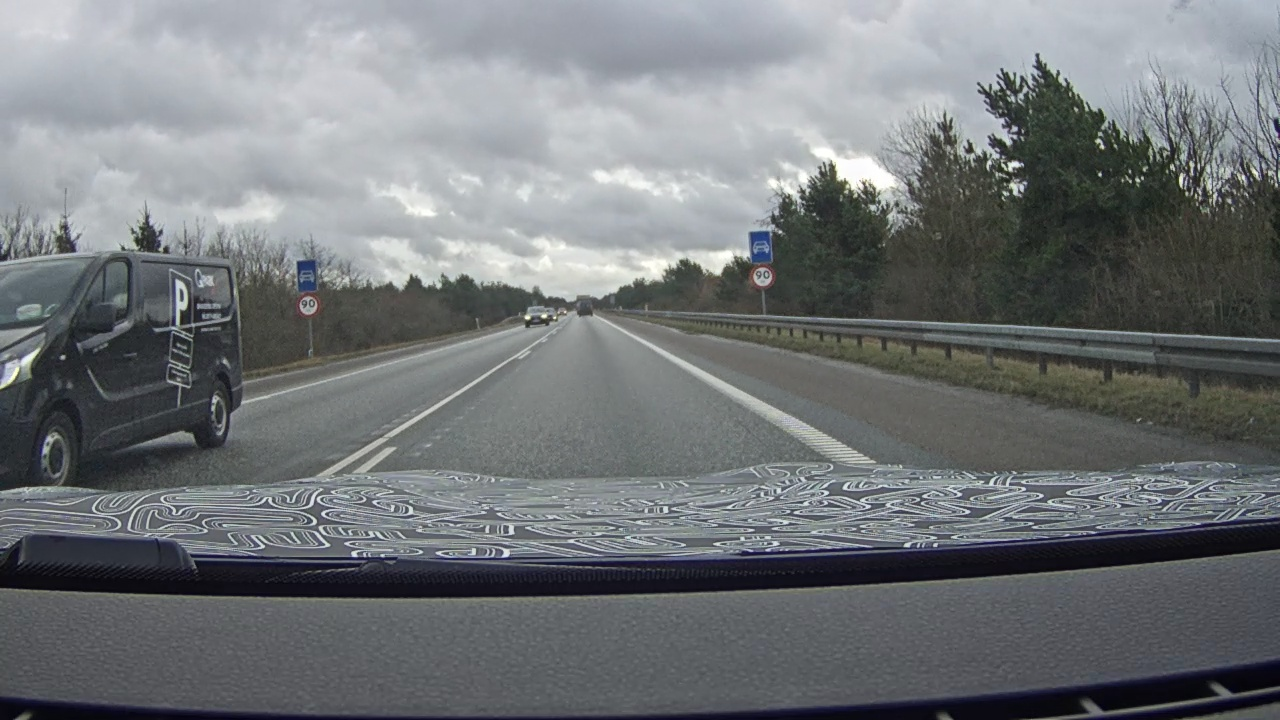Expressway_Begin: (748, 230, 773, 265), (296, 259, 319, 293)
